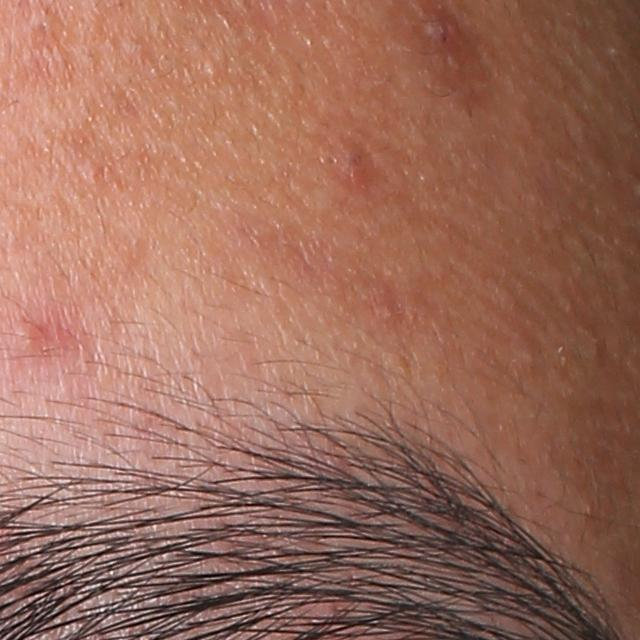comedo: (199, 58, 223, 84)
